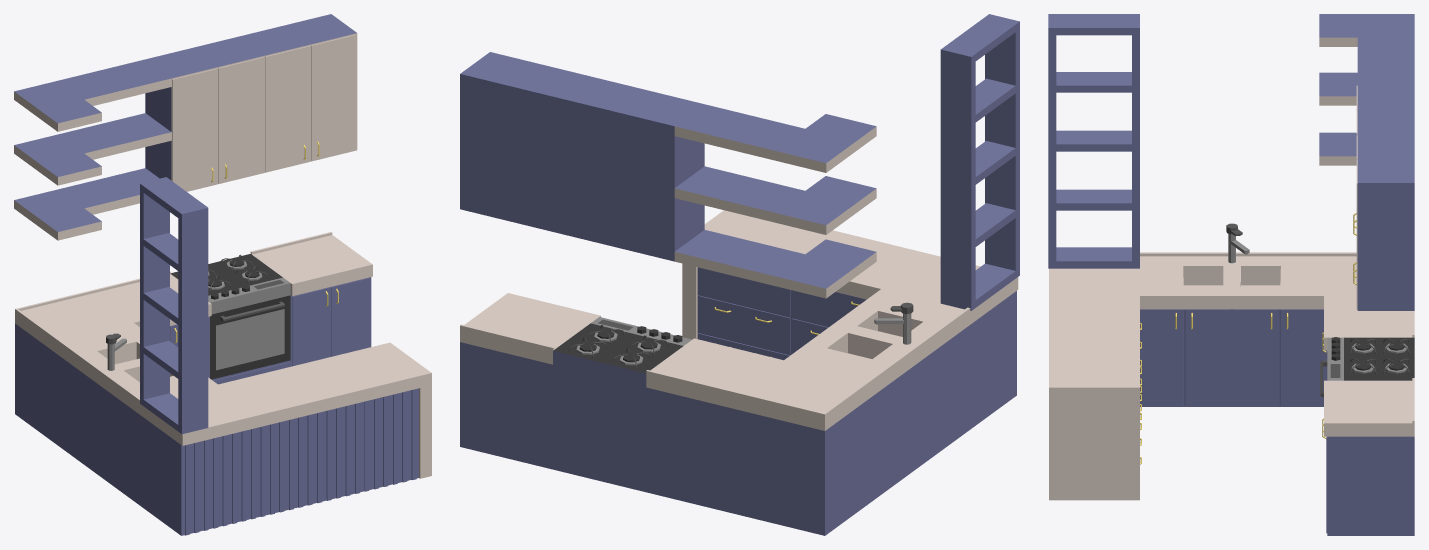
The model's file is Kitchen_set_1.fbx.
3 renders of one model, left to right at view 1: azimuth 30°, elevation 25°; view 2: azimuth 150°, elevation 25°; view 3: azimuth 270°, elevation 25°, orthographic. The views are drawn at different scales.
Visible parts, largest first — view 1: Kitchen_set_1; view 2: Kitchen_set_1; view 3: Kitchen_set_1.
Part boxes in pixels (x1,y1,x2,y2): Kitchen_set_1: (14,14,431,535); Kitchen_set_1: (460,14,1019,535); Kitchen_set_1: (1048,14,1414,535).
Bounding box in the file's own units: 369 × 338 × 359.
